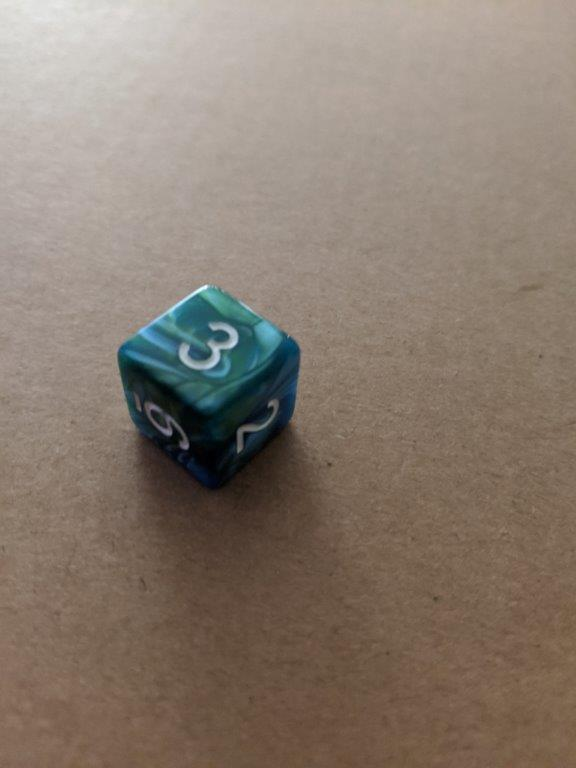d6-3: (117, 282, 302, 488)
